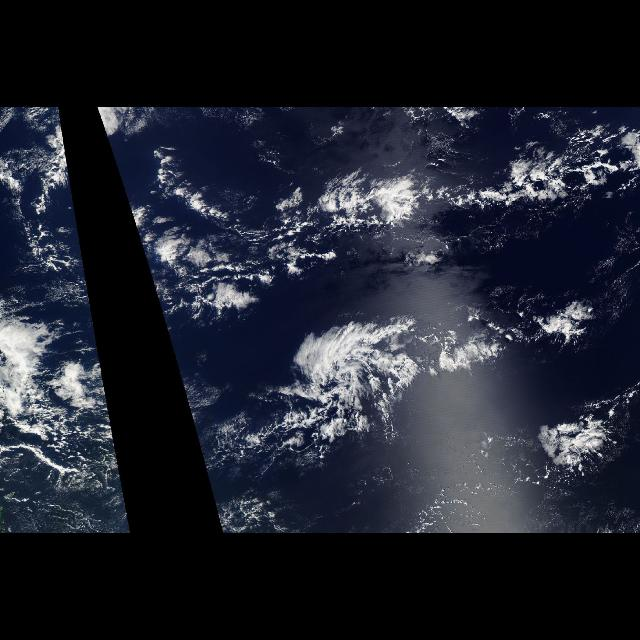Fish: (441, 150, 611, 212), (3, 436, 121, 494)
Flower: (511, 370, 637, 506)
